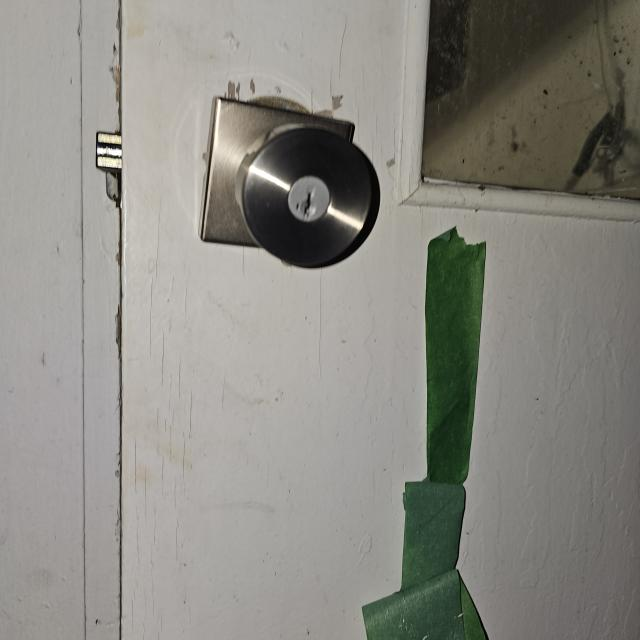door-knob: (200, 98, 380, 268)
